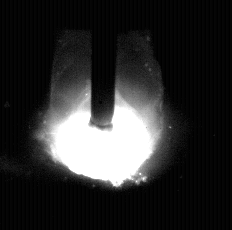arame: (92, 0, 116, 131)
poca: (37, 0, 165, 230)
